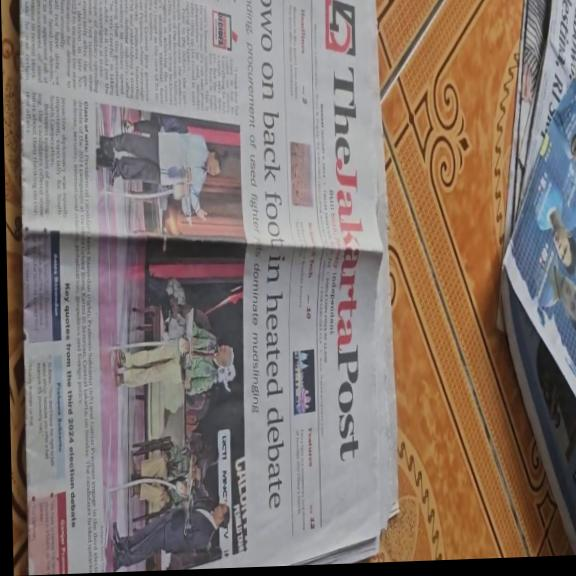Kertas: (19, 0, 391, 567)
